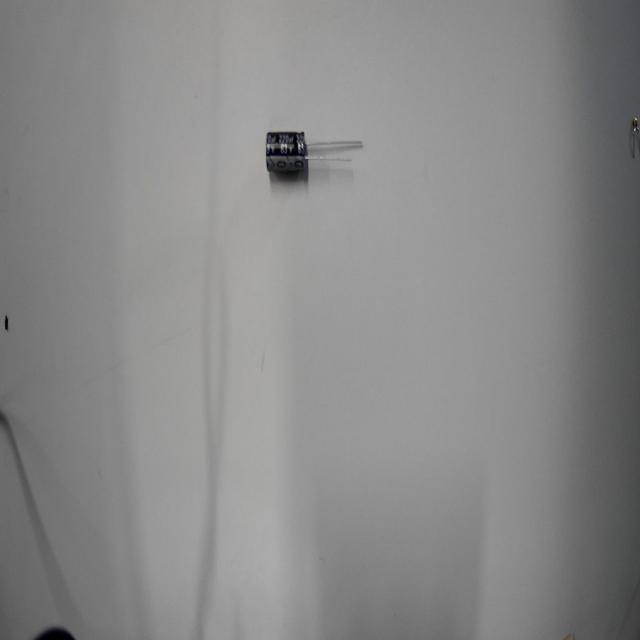capacitor_L: (250, 108, 344, 195)
